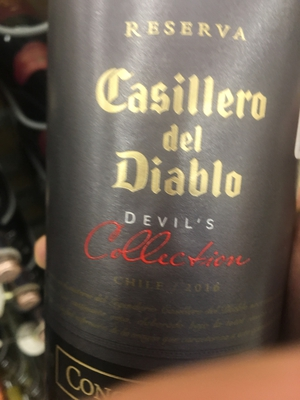casillero del diablo devils collection rojo: (46, 7, 297, 400)
